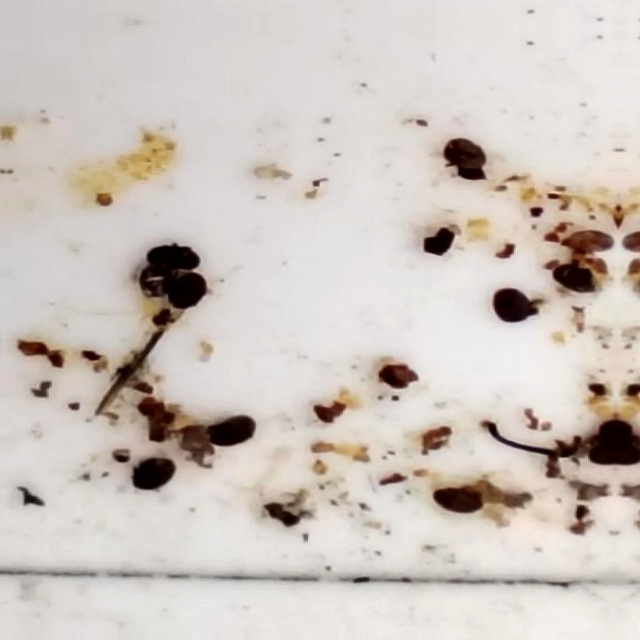varroa: (205, 414, 260, 450), (164, 272, 213, 311), (142, 243, 201, 274), (130, 458, 179, 494), (443, 139, 490, 176), (132, 265, 173, 304), (550, 261, 597, 294), (491, 290, 533, 326), (431, 486, 483, 513), (584, 436, 615, 465), (595, 418, 615, 440)
